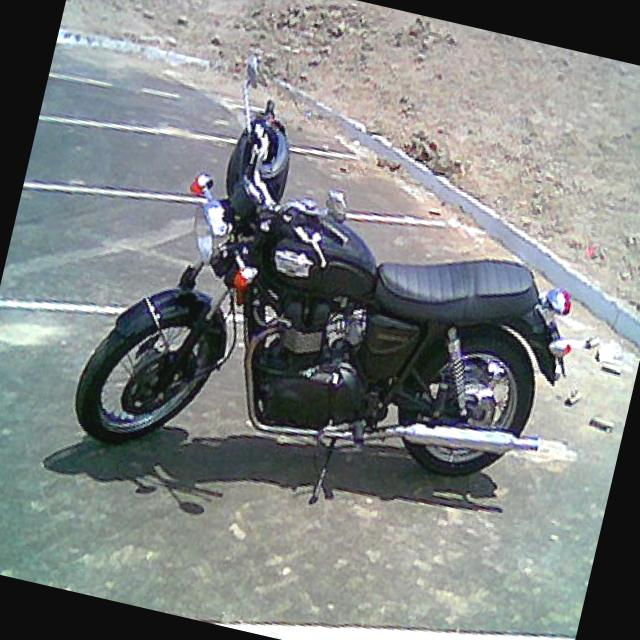Vehicle: (56, 34, 621, 554)
